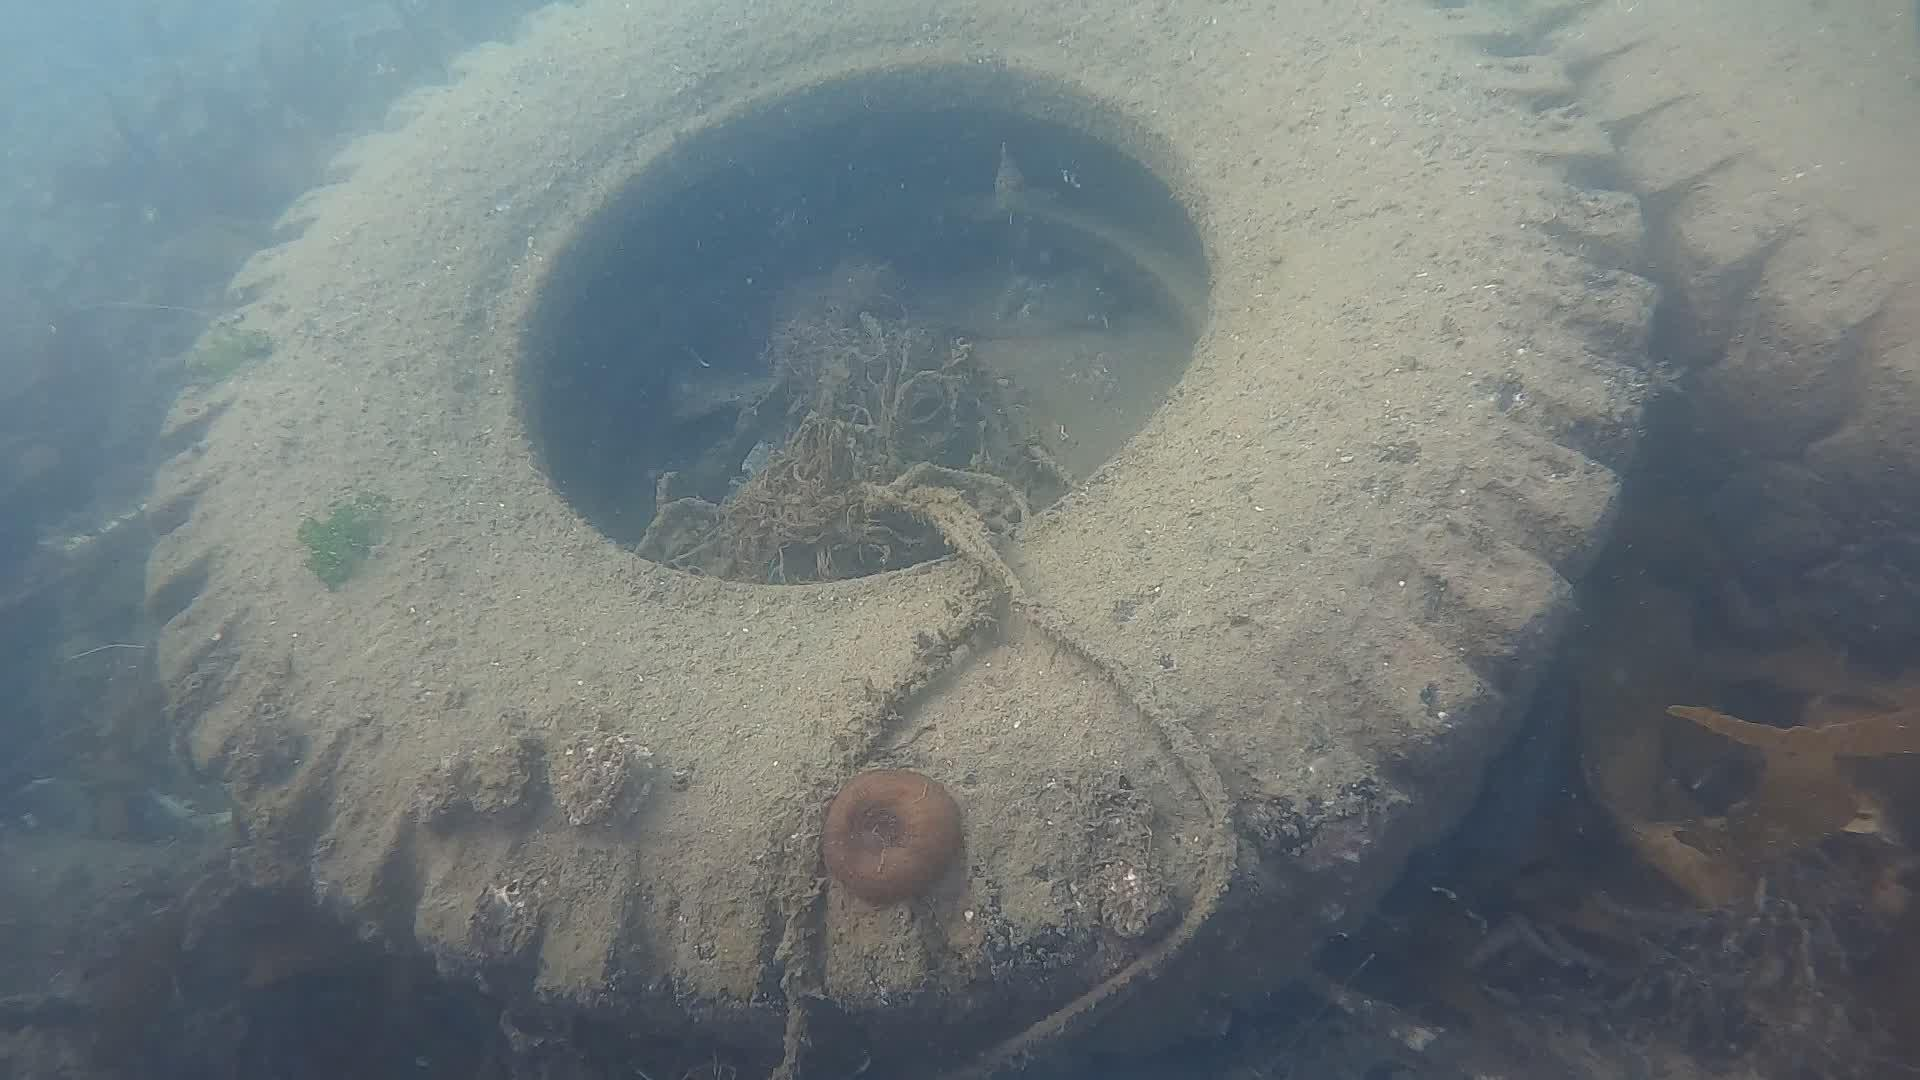bundle of ropes: (775, 458, 1240, 1080)
tire: (145, 0, 1658, 1080)
